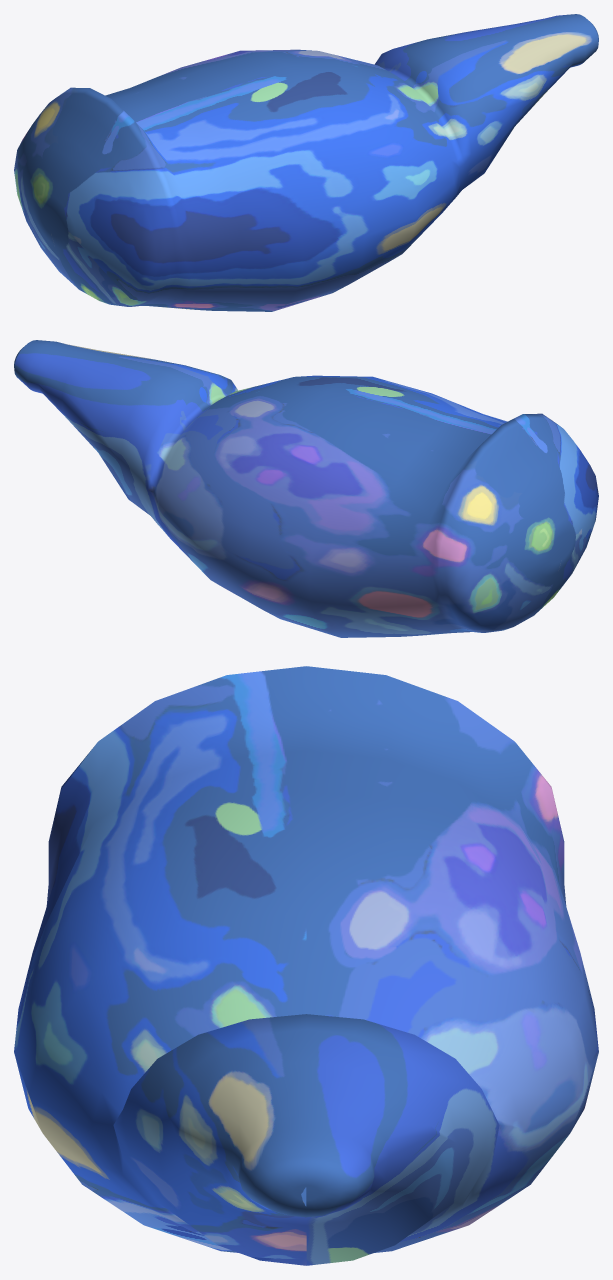
Rendered from tiaotai01.fbx.
3 renders of one model, top to bottom at view 1: azimuth 30°, elevation 25°; view 2: azimuth 150°, elevation 25°; view 3: azimuth 270°, elevation 25°, orthographic. The views are drawn at different scales.
Visible parts, largest first — view 1: pCylinder1; view 2: pCylinder1; view 3: pCylinder1.
Boxes of the visible parts, x1,y1,x2,y2 form: pCylinder1: (14,14,598,311); pCylinder1: (14,340,598,637); pCylinder1: (14,666,598,1265).
Size of the model in its own units: 2.31 by 0.9249 by 1.17.
